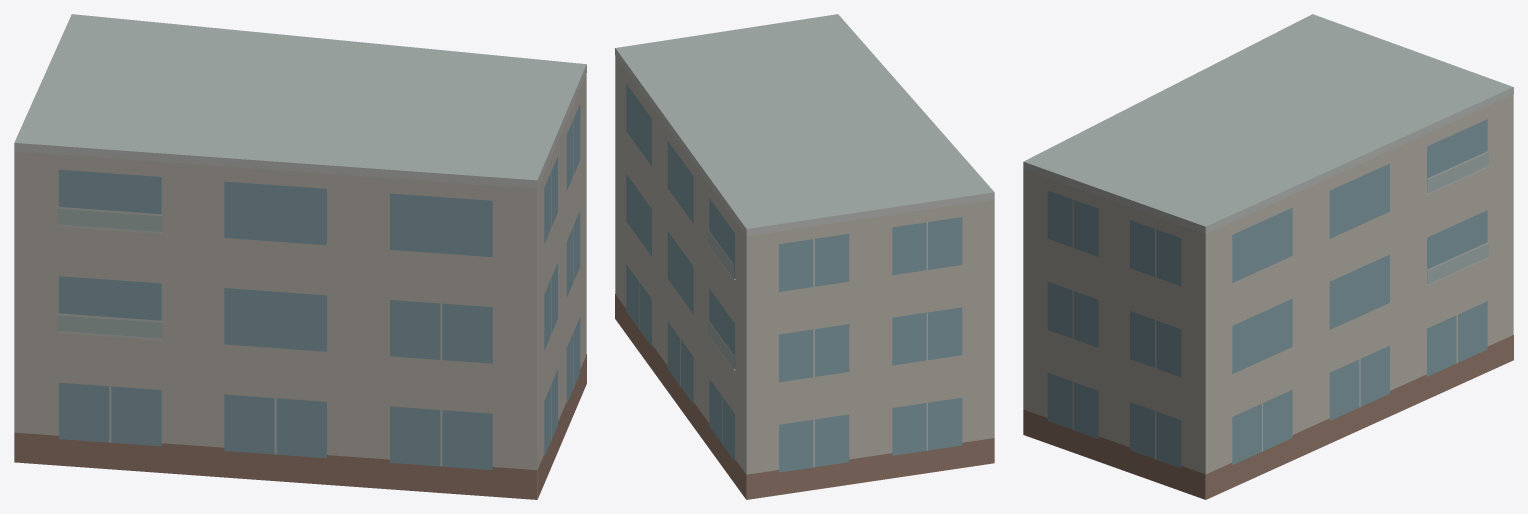
The model's file is survey-upis-32921026.glb.
3 views of the same model, side by side, from view 1: azimuth 30°, elevation 25°; view 2: azimuth 150°, elevation 25°; view 3: azimuth 270°, elevation 25° (orthographic). The views are drawn at different scales.
Visible parts, largest first — view 1: survey-upis-32921026.tmp; view 2: survey-upis-32921026.tmp; view 3: survey-upis-32921026.tmp.
Part boxes in pixels (x1,y1,x2,y2): survey-upis-32921026.tmp: (14,14,586,499); survey-upis-32921026.tmp: (615,14,994,499); survey-upis-32921026.tmp: (1023,14,1513,499).
Bounding box in the file's own units: 15.29 × 9.15 × 14.9.
